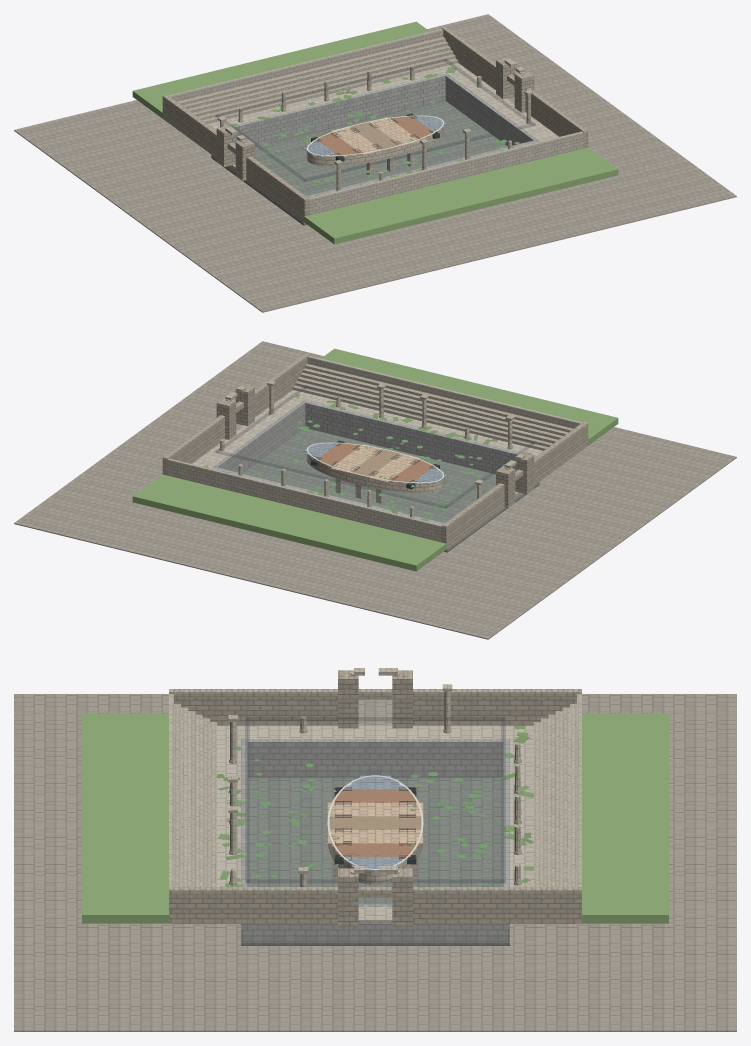
File: arena_12x28.gltf
3 views of the same model, one above another, from view 1: azimuth 30°, elevation 25°; view 2: azimuth 150°, elevation 25°; view 3: azimuth 270°, elevation 25° (orthographic). The views are drawn at different scales.
Visible parts, largest first — view 1: walk, grass, end_walls, tank, tiers, back, floor, rim, columns, face, lilies, deck_s1_z1 (+5 smaller); view 2: walk, grass, end_walls, tank, back, tiers, floor, rim, columns, face, lilies, moss (+5 smaller); view 3: walk, grass, end_walls, floor, tank, tiers, rim, columns, back, moss, lilies, deck_s0_z1 (+8 smaller).
Boxes of the visible parts, x1=… form: walk: x1=14, y1=14, x2=736, y2=312; grass: x1=132, y1=21, x2=618, y2=244; end_walls: x1=162, y1=26, x2=588, y2=222; tank: x1=211, y1=73, x2=538, y2=223; tiers: x1=177, y1=37, x2=458, y2=123; back: x1=168, y1=28, x2=583, y2=215; floor: x1=211, y1=101, x2=507, y2=225; rim: x1=215, y1=59, x2=535, y2=181; columns: x1=217, y1=65, x2=533, y2=191; face: x1=306, y1=116, x2=444, y2=166; lilies: x1=262, y1=96, x2=519, y2=188; deck_s1_z1: x1=369, y1=117, x2=419, y2=145; walk: x1=14, y1=341, x2=736, y2=639; grass: x1=132, y1=348, x2=618, y2=571; end_walls: x1=162, y1=353, x2=588, y2=549; tank: x1=212, y1=400, x2=539, y2=550; back: x1=167, y1=355, x2=582, y2=542; tiers: x1=292, y1=364, x2=573, y2=450; floor: x1=243, y1=428, x2=539, y2=552; rim: x1=215, y1=386, x2=535, y2=508; columns: x1=219, y1=380, x2=514, y2=518; face: x1=306, y1=443, x2=444, y2=493; lilies: x1=255, y1=420, x2=504, y2=514; moss: x1=202, y1=394, x2=531, y2=521; walk: x1=14, y1=694, x2=736, y2=1031; grass: x1=82, y1=713, x2=668, y2=923; end_walls: x1=169, y1=670, x2=581, y2=926; floor: x1=241, y1=778, x2=509, y2=945; tank: x1=241, y1=739, x2=509, y2=942; tiers: x1=174, y1=704, x2=576, y2=923; rim: x1=245, y1=717, x2=505, y2=882; columns: x1=228, y1=684, x2=521, y2=886; back: x1=169, y1=694, x2=581, y2=886; moss: x1=217, y1=725, x2=533, y2=886; lilies: x1=252, y1=759, x2=488, y2=885; deck_s0_z1: x1=327, y1=802, x2=423, y2=816.
Bounding box in the file's own units: 99.6 × 13.05 × 90.4.
Materials: 21 (21 with a texture image).
